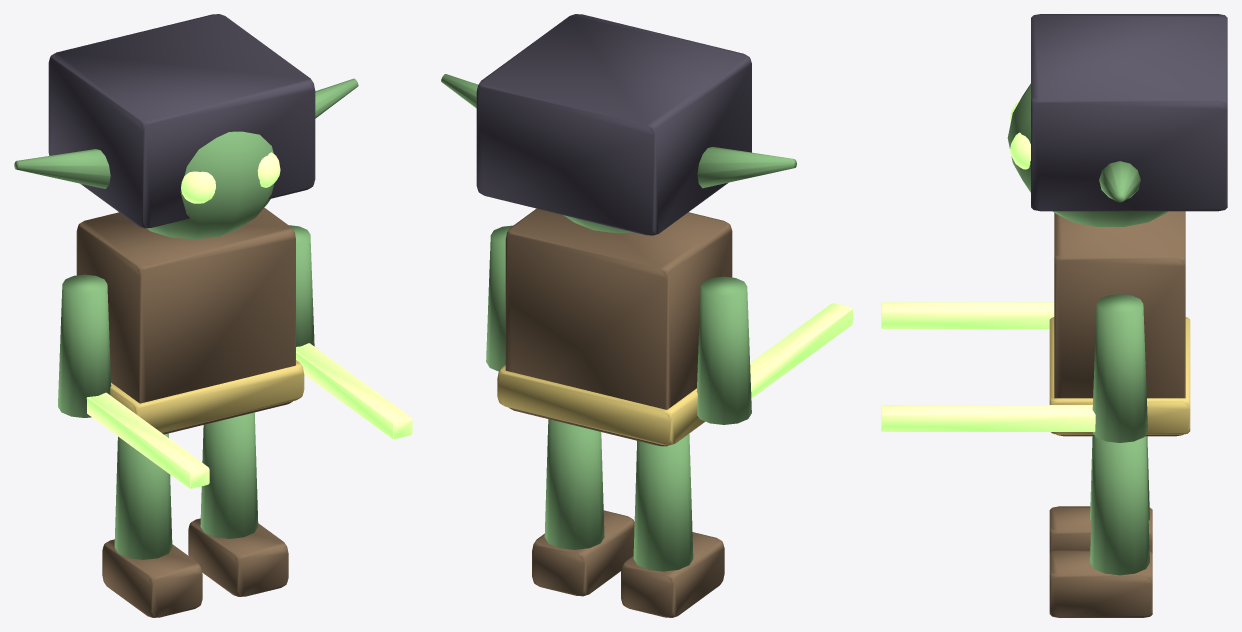
Rendered from enemy_goblin.glb.
The picture shows the model from 3 angles, left to right: view 1: azimuth 30°, elevation 25°; view 2: azimuth 150°, elevation 25°; view 3: azimuth 270°, elevation 25°; orthographic projection. The views are drawn at different scales.
Visible parts, largest first — view 1: GobHood, GobTorso, GobHead, GobArmL, GobLegR, GobBelt, GobLegL, GobBootL, GobBootR, DaggerL, DaggerR, GobEarL (+4 smaller); view 2: GobHood, GobTorso, GobBelt, GobArmL, GobLegL, GobLegR, GobBootL, GobBootR, DaggerL, GobEarL, GobArmR, GobEarR; view 3: GobHood, GobTorso, GobLegR, GobArmR, DaggerR, GobBootR, DaggerL, GobBelt, GobHead, GobBootL, GobEarR, GobEyeR.
Part boxes in pixels (x1,y1,x2,y2): GobHood: [48, 14, 315, 228]; GobTorso: [76, 208, 295, 434]; GobHead: [147, 131, 274, 239]; GobArmL: [58, 274, 111, 417]; GobLegR: [200, 412, 258, 538]; GobBelt: [110, 360, 304, 432]; GobLegL: [114, 433, 172, 559]; GobBootL: [102, 539, 202, 617]; GobBootR: [188, 518, 288, 596]; DaggerL: [86, 392, 209, 488]; DaggerR: [296, 343, 412, 439]; GobEarL: [14, 149, 110, 188]; GobHood: [476, 14, 751, 235]; GobTorso: [505, 208, 732, 446]; GobBelt: [497, 365, 705, 445]; GobArmL: [696, 276, 751, 424]; GobLegL: [633, 433, 693, 571]; GobLegR: [544, 419, 604, 549]; GobBootL: [621, 532, 724, 617]; GobBootR: [532, 510, 634, 596]; DaggerL: [750, 303, 852, 398]; GobEarL: [697, 147, 796, 188]; GobArmR: [486, 225, 512, 371]; GobEarR: [441, 74, 477, 108]; GobHood: [1031, 14, 1227, 211]; GobTorso: [1054, 211, 1185, 436]; GobLegR: [1090, 436, 1149, 575]; GobArmR: [1092, 294, 1147, 442]; DaggerR: [881, 405, 1095, 431]; GobBootR: [1049, 550, 1152, 617]; DaggerL: [881, 302, 1054, 328]; GobBelt: [1049, 317, 1190, 434]; GobHead: [1007, 83, 1168, 227]; GobBootL: [1049, 506, 1152, 553]; GobEarR: [1099, 161, 1140, 202]; GobEyeR: [1010, 132, 1030, 169].
Bounding box in the file's own units: 0.8743 × 1.24 × 0.74.
